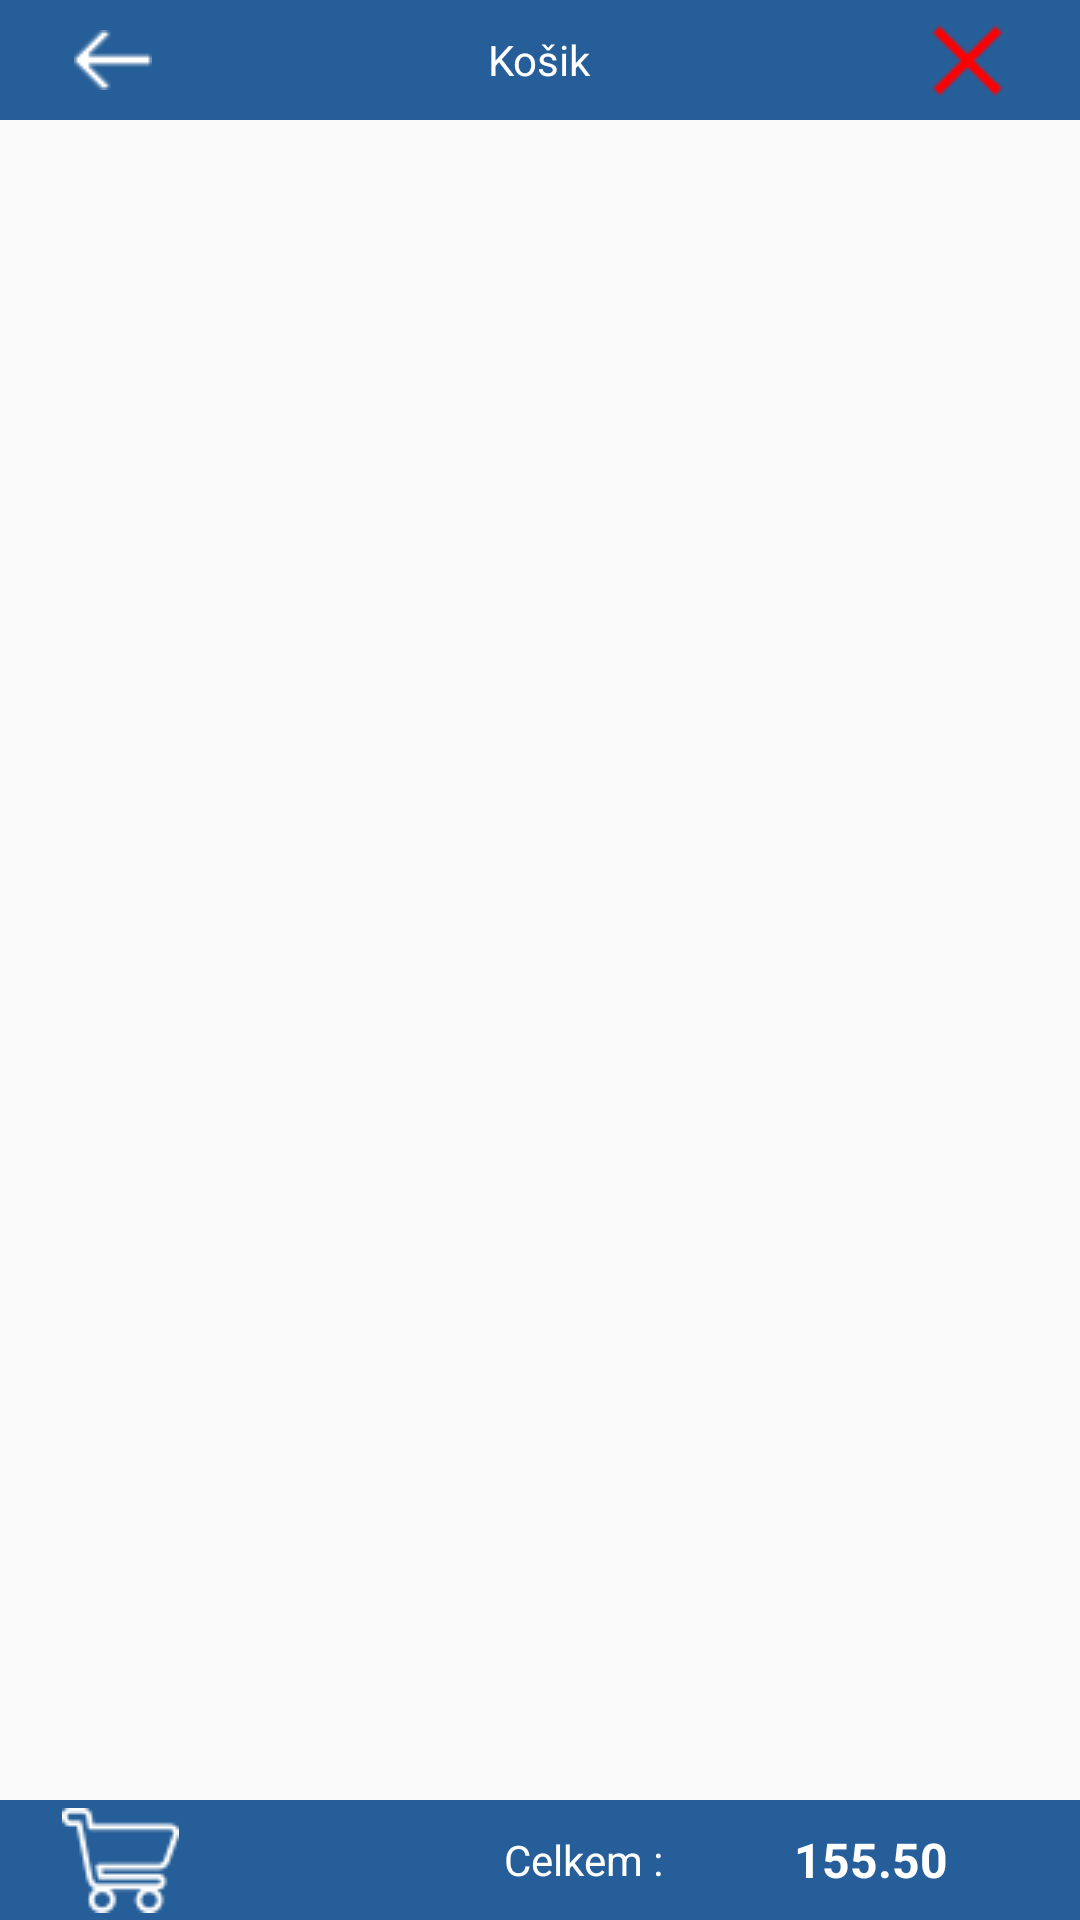

Screen size 1080x1920. Icon name, then its box in pixels as (x1, y1, x2, y2):
back: (74, 30, 152, 90)
del: (932, 25, 1003, 96)
shop basket: (62, 1808, 179, 1913)
